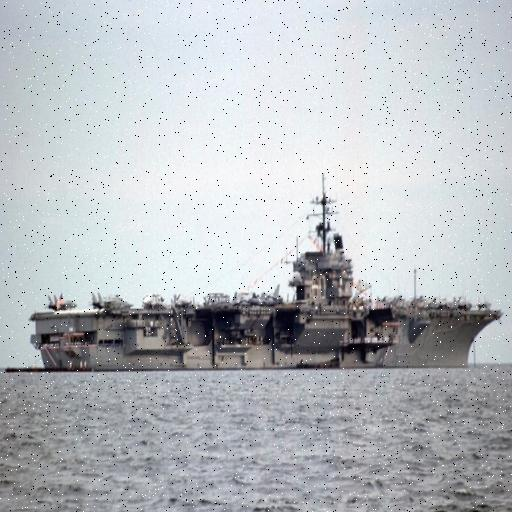Portanaves: (30, 165, 507, 377)
